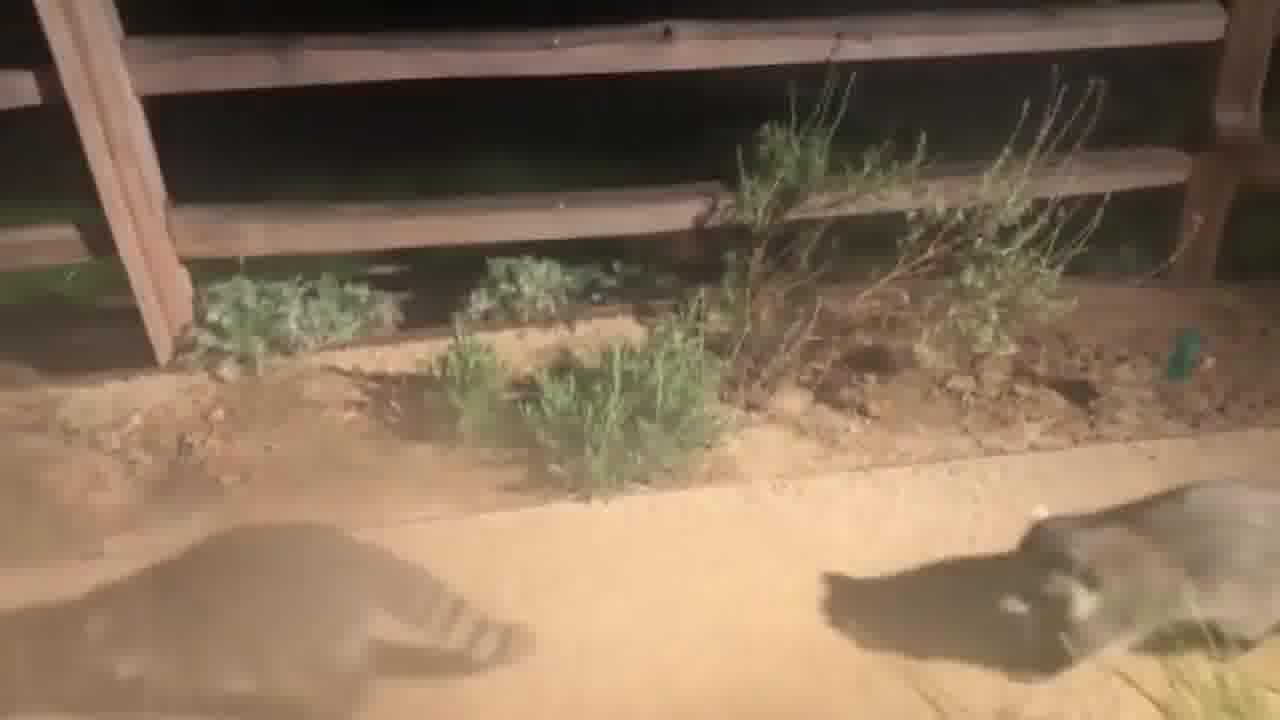raccoon: (32, 508, 549, 720), (994, 468, 1280, 687)
